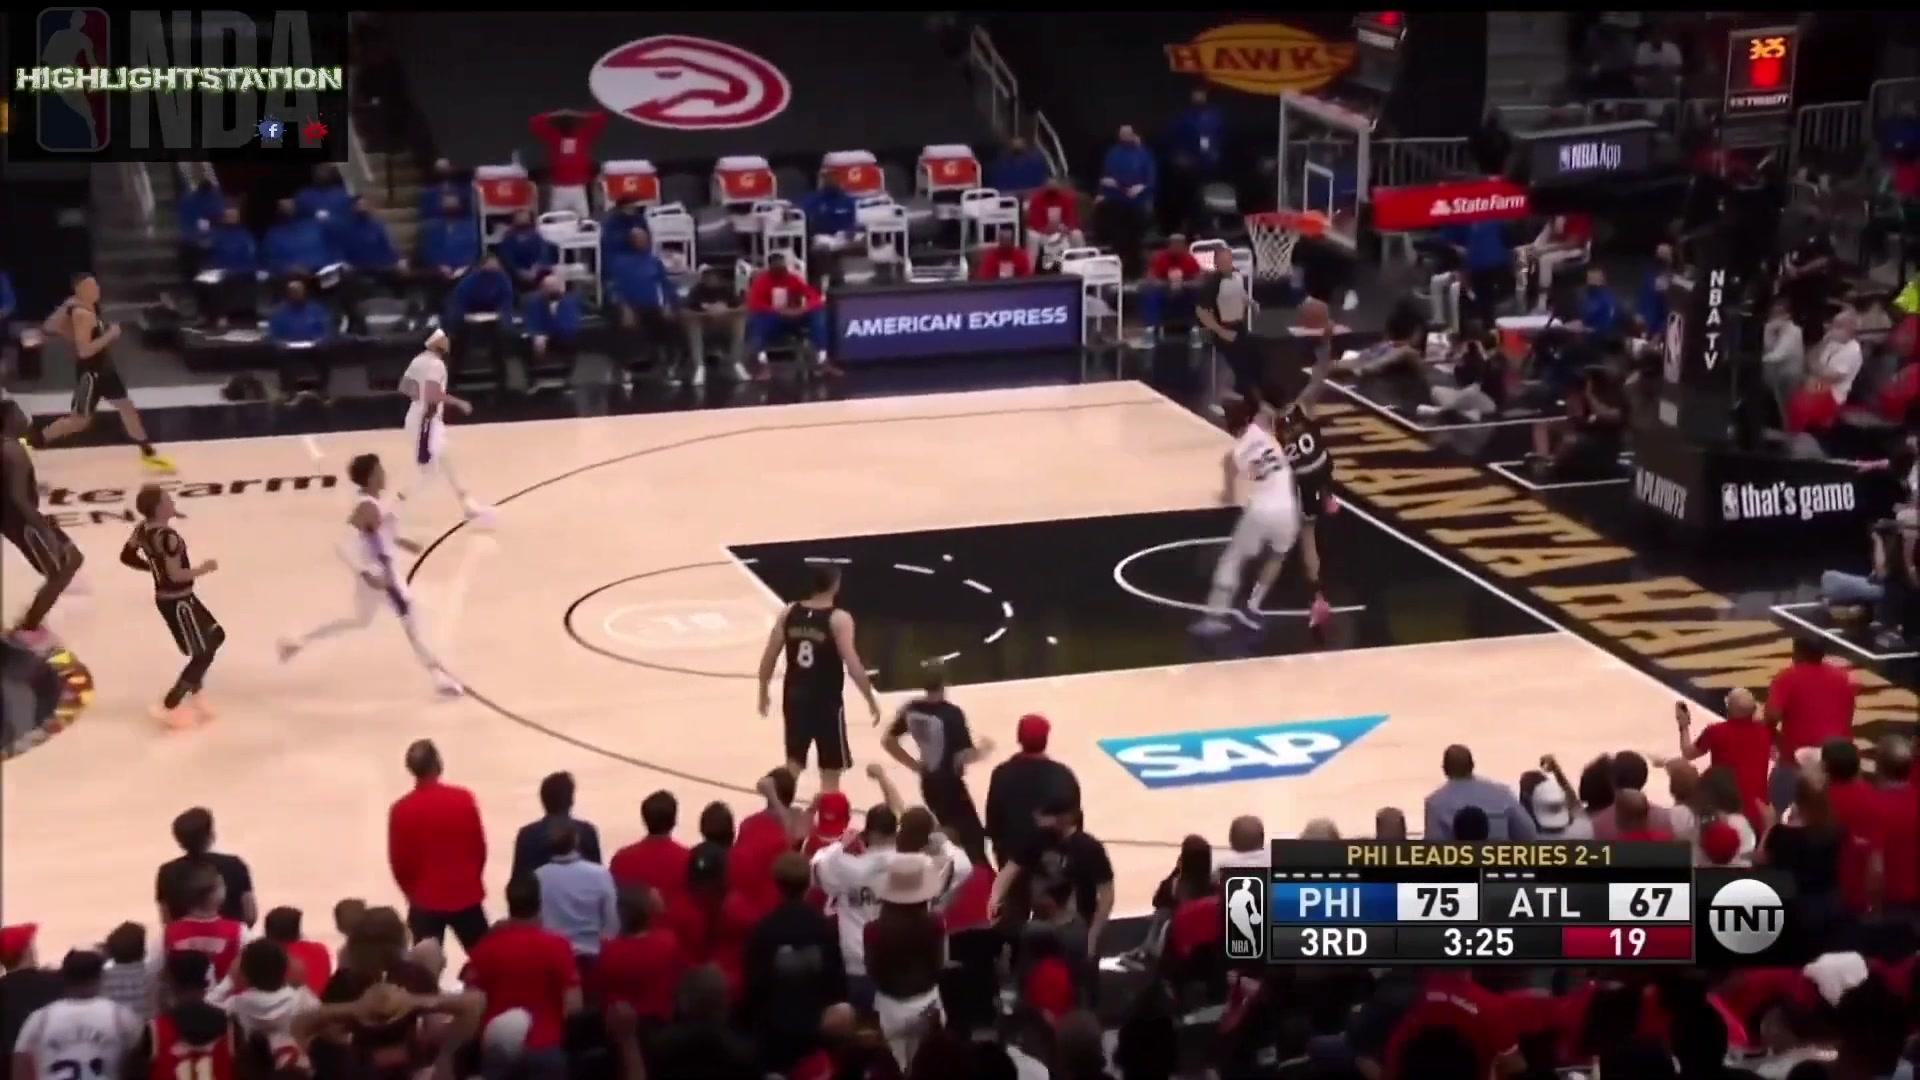foul: (1183, 357, 1362, 644)
